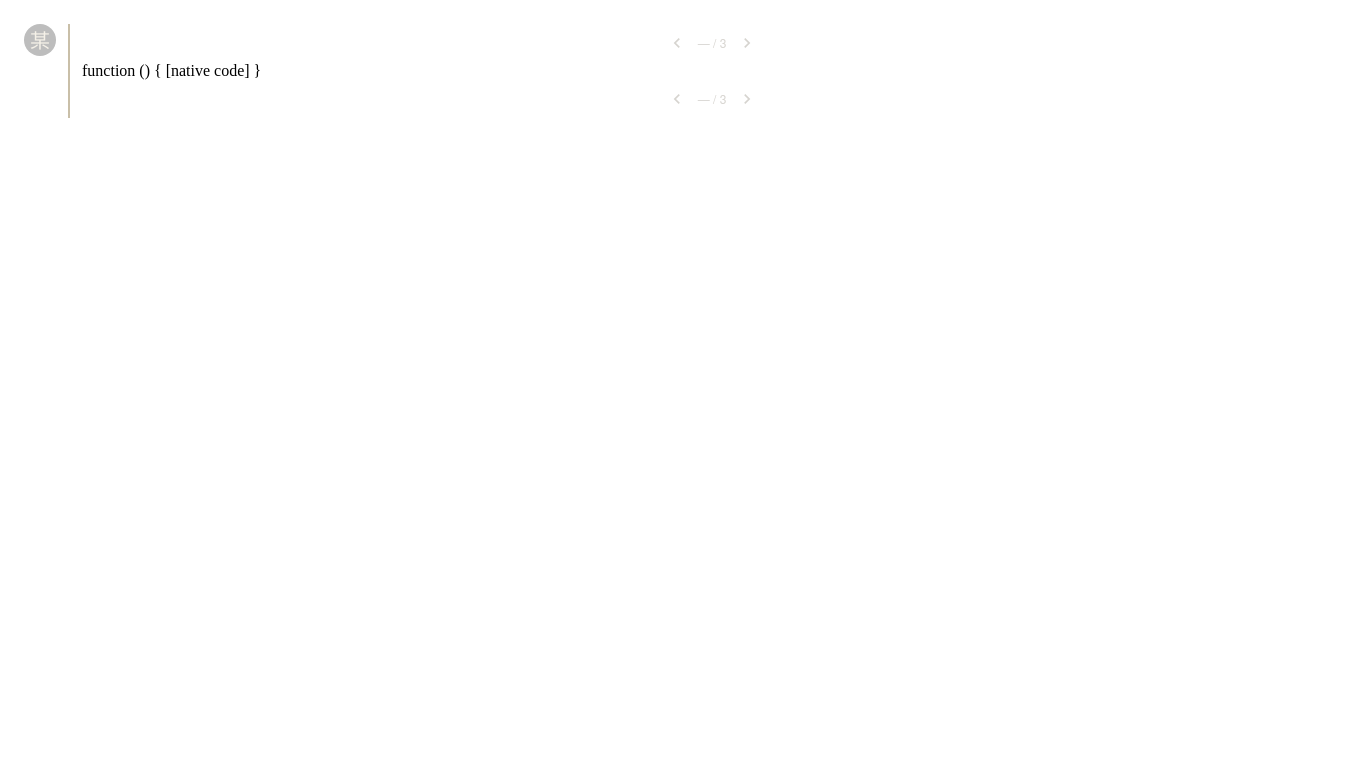
SwipeBar —— swipeIndex: null（越界，不知道目前站在哪） › 候選清單層打開時，沒有任何一項被標成「目前」，而且會顯示「不在清單裡」的提示
This screenshot has width=1366, height=768.
Click the button named "全部 3 個候選".
click(712, 43)  # box [692,31,732,55]
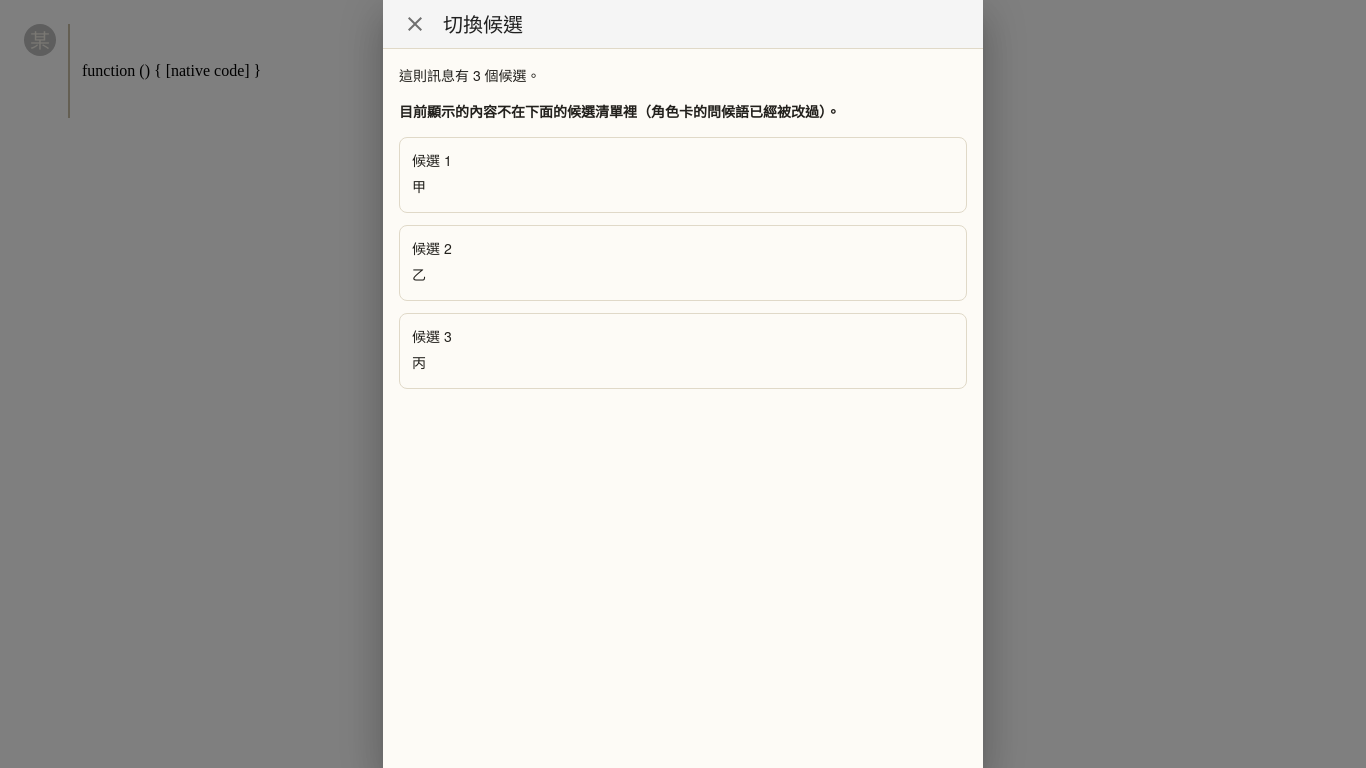
Expected: the text "目前顯示的內容不在下面的候選清單裡（角色卡的問候語已經被改過）。" is shown, [399,101,840,121]
